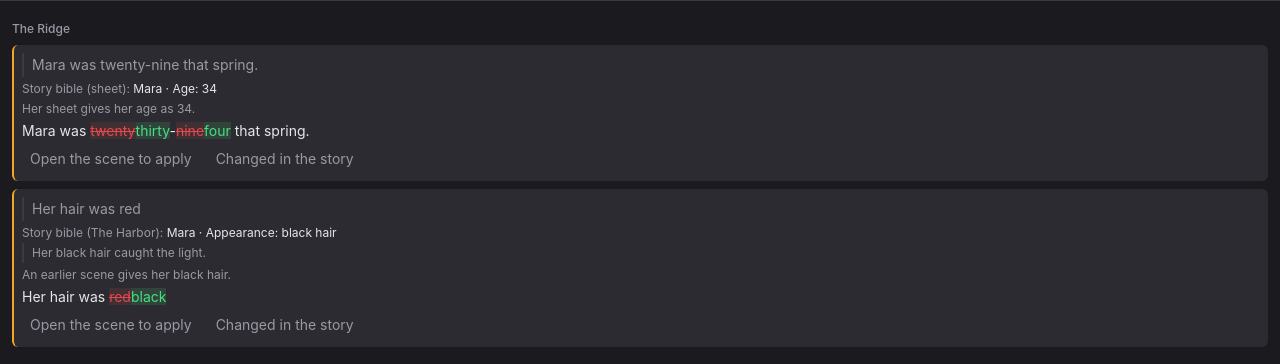
Test: ContinuityView (F-13.4) › dismisses a finding as changed in the story
Click the button with test id "continuity-dismiss".
click(285, 325)  # box [208, 311, 362, 339]
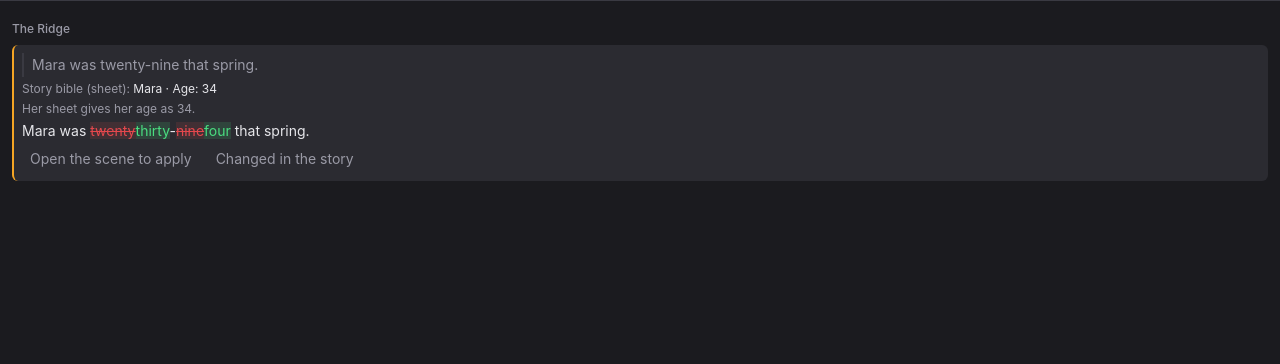
Expected: the number of list items with test id "continuity-finding" is 1, [12, 45, 1268, 181]
